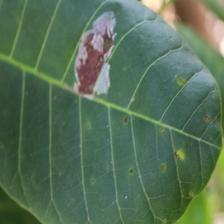leaf miner: (73, 10, 116, 98)
